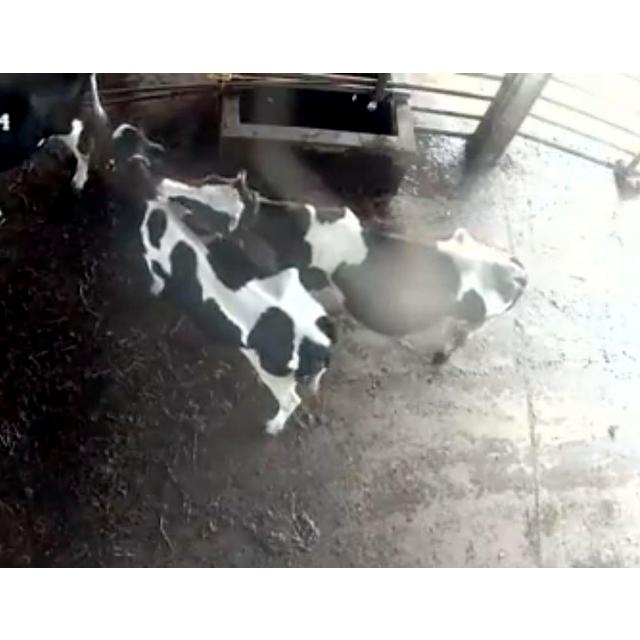propping: (144, 165, 286, 258)
